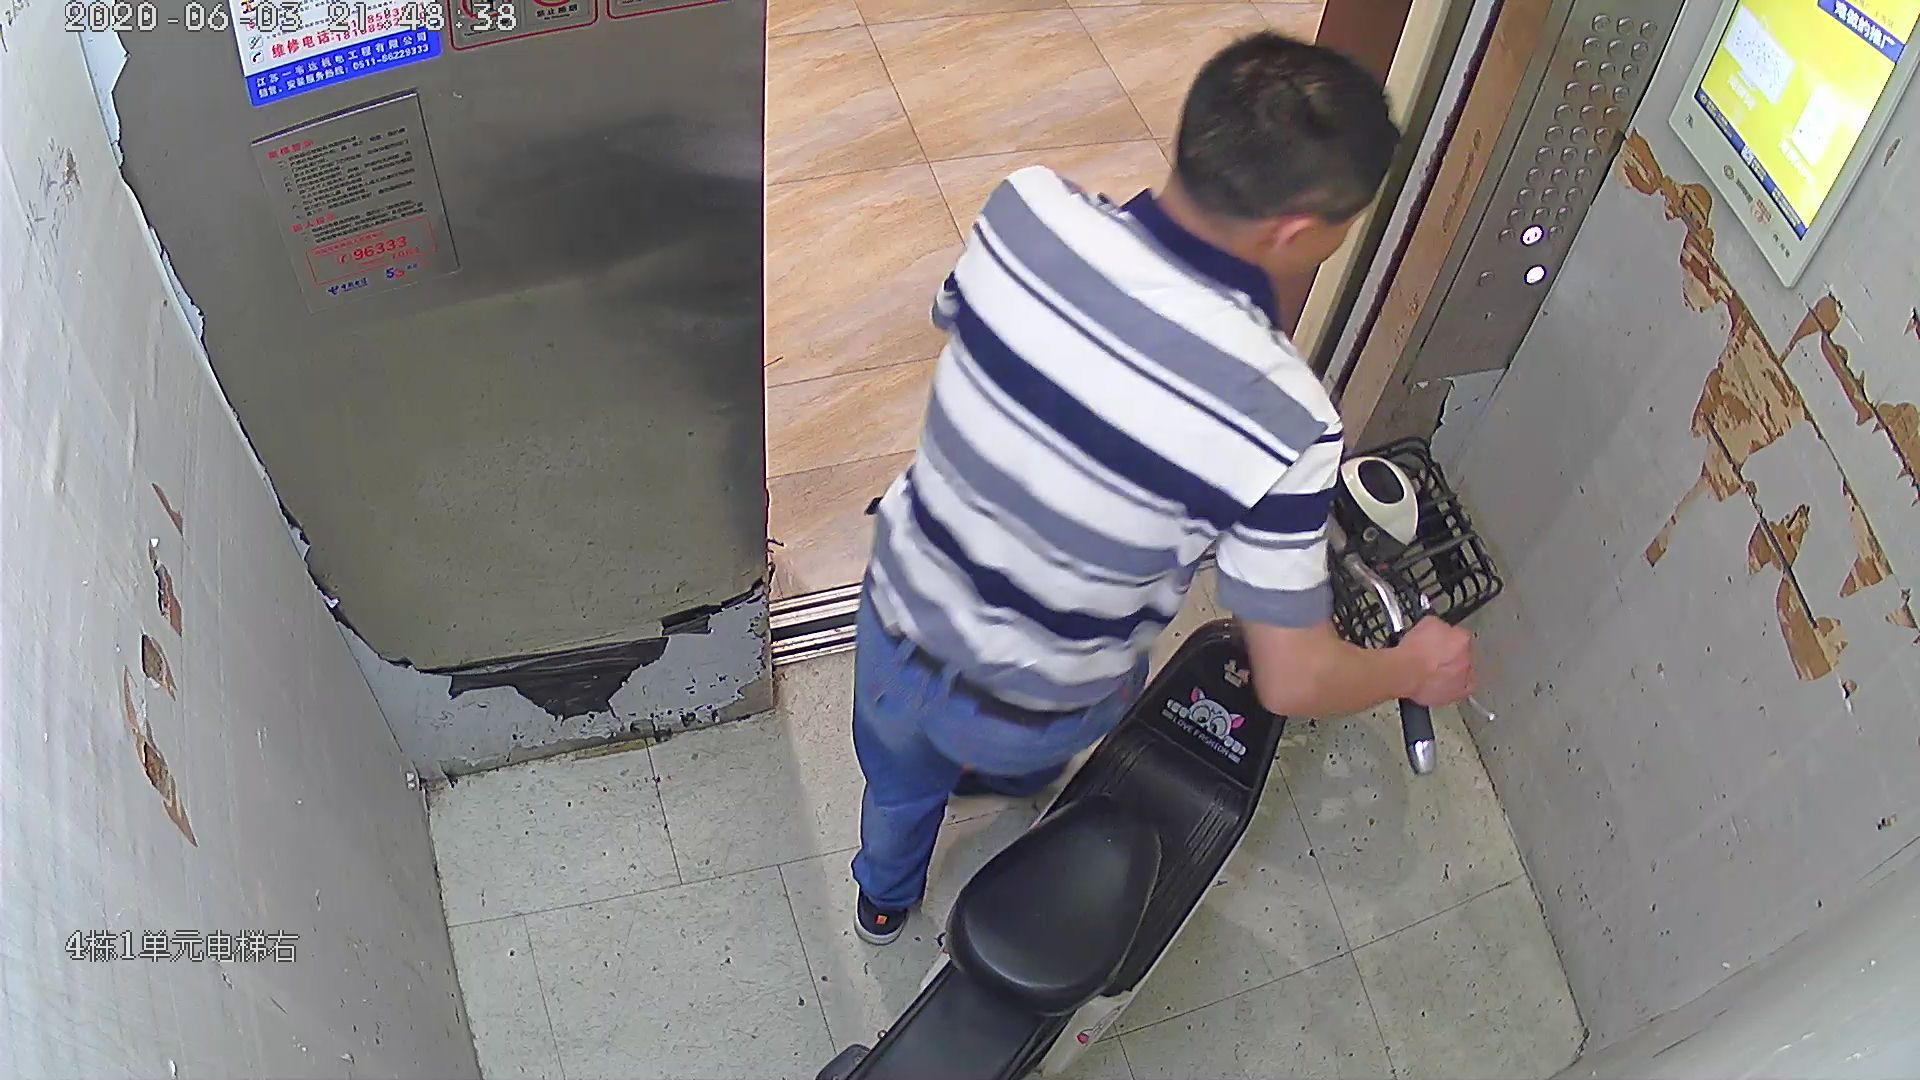Electric-bicycle: (843, 406, 1501, 1080)
